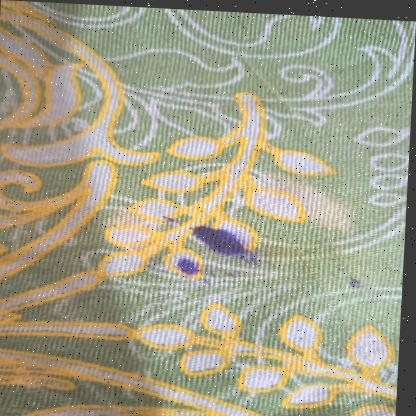spot: (192, 216, 272, 264), (163, 244, 223, 281), (150, 200, 218, 231), (337, 267, 376, 290)
